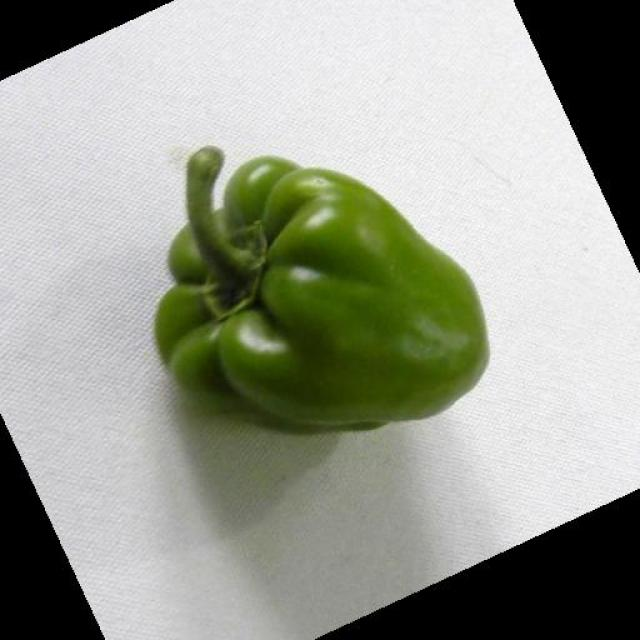Fresh_Capsicum: (179, 140, 521, 446)
